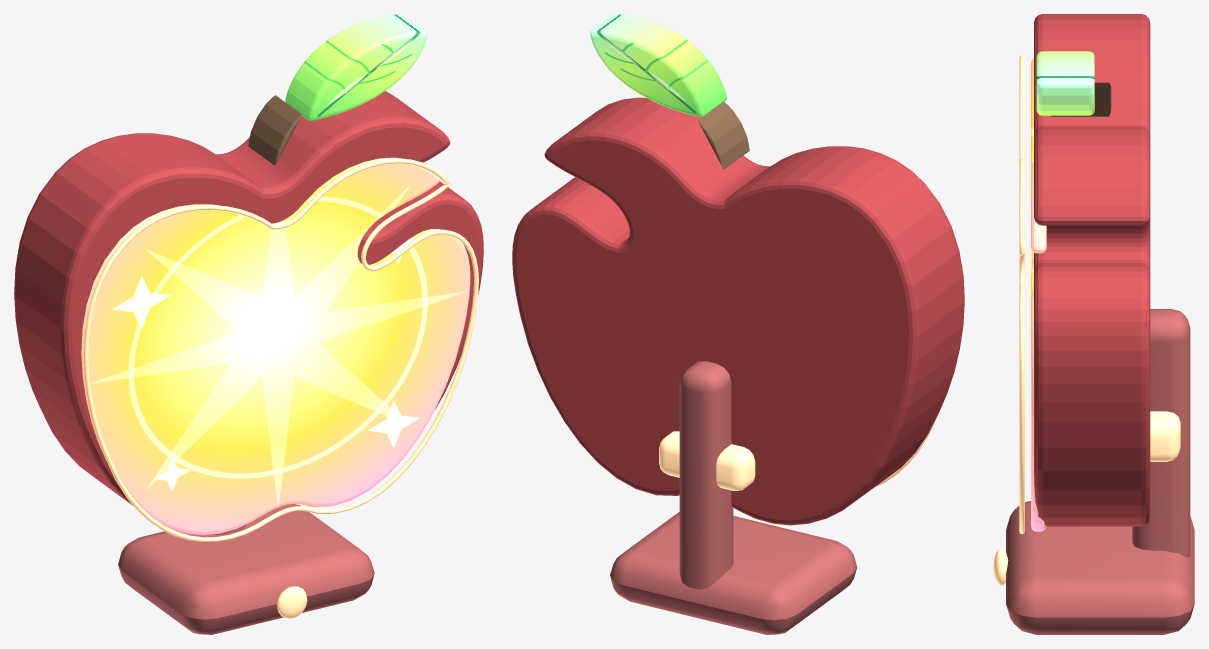
Rendered from asset.glb.
The picture shows the model from 3 angles, left to right: view 1: azimuth 30°, elevation 25°; view 2: azimuth 150°, elevation 25°; view 3: azimuth 270°, elevation 25°; orthographic projection. The views are drawn at different scales.
Parts seen in each view (by area): view 1: Inset glowing apple face, Apple silhouette | rounded enamel shell, Weighted oval foot, Separate leaf, Fine diffuser edge piping, Short apple stem, Stand glow jewel; view 2: Apple silhouette | rounded enamel shell, Weighted oval foot, Rear support spine, Separate leaf, Mount collar, Short apple stem; view 3: Apple silhouette | rounded enamel shell, Weighted oval foot, Rear support spine, Separate leaf, Fine diffuser edge piping, Inset glowing apple face, Mount collar, Short apple stem, Stand glow jewel.
Boxes of the visible parts, left/top/right/bottom form: Inset glowing apple face: left=81, top=157, right=470, bottom=535; Apple silhouette | rounded enamel shell: left=14, top=91, right=483, bottom=505; Weighted oval foot: left=118, top=504, right=374, bottom=634; Separate leaf: left=285, top=14, right=427, bottom=120; Fine diffuser edge piping: left=83, top=158, right=478, bottom=541; Short apple stem: left=248, top=95, right=301, bottom=165; Stand glow jewel: left=277, top=586, right=307, bottom=618; Apple silhouette | rounded enamel shell: left=512, top=97, right=964, bottom=525; Weighted oval foot: left=610, top=512, right=857, bottom=634; Rear support spine: left=679, top=361, right=733, bottom=589; Separate leaf: left=590, top=14, right=726, bottom=116; Mount collar: left=659, top=431, right=755, bottom=490; Short apple stem: left=698, top=101, right=749, bottom=169; Apple silhouette | rounded enamel shell: left=1034, top=14, right=1150, bottom=526; Weighted oval foot: left=1006, top=501, right=1194, bottom=634; Rear support spine: left=1132, top=309, right=1190, bottom=557; Separate leaf: left=1036, top=51, right=1094, bottom=115; Fine diffuser edge piping: left=1019, top=55, right=1024, bottom=534; Inset glowing apple face: left=1031, top=58, right=1046, bottom=531; Mount collar: left=1150, top=411, right=1180, bottom=461; Short apple stem: left=1051, top=82, right=1111, bottom=116; Stand glow jewel: left=993, top=548, right=1008, bottom=585.
Bounding box in the file's own units: 0.9532 × 1.19 × 0.363.
Materials: 6 (2 with a texture image).
